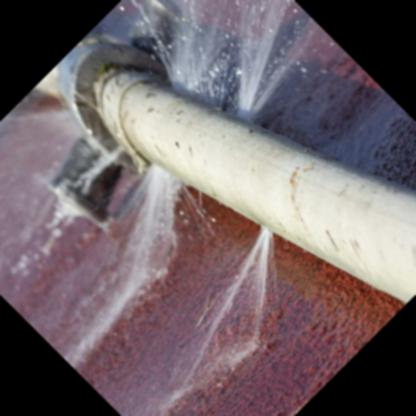burst: (158, 40, 267, 138), (139, 158, 202, 208), (241, 208, 289, 266)
